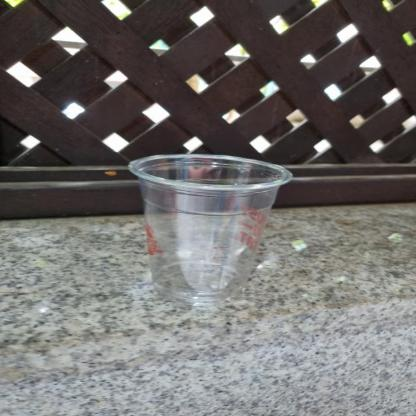Plastic Cup: (122, 148, 298, 310)
